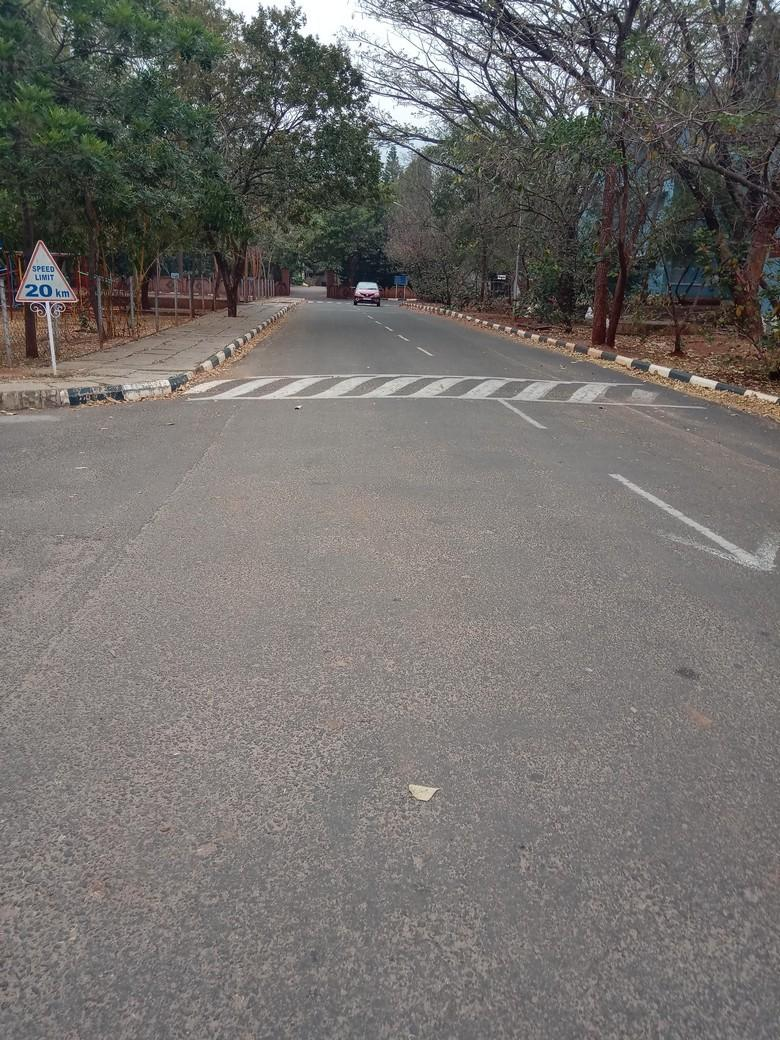speed-bump: (186, 374, 704, 405)
